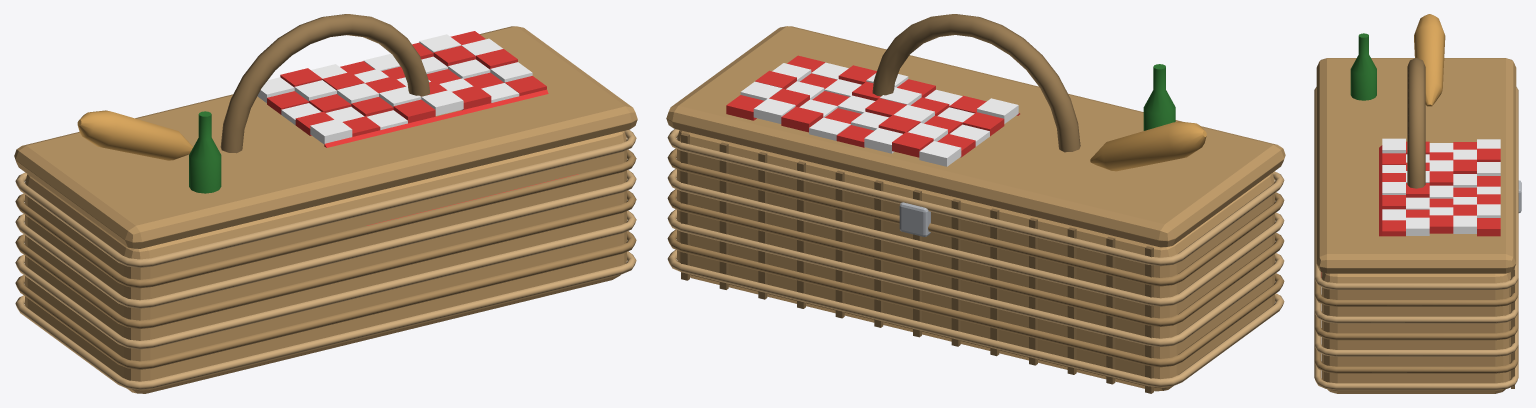
The model's file is picnic_basket.fbx.
The picture shows the model from 3 angles, left to right: view 1: azimuth 30°, elevation 25°; view 2: azimuth 150°, elevation 25°; view 3: azimuth 270°, elevation 25°; orthographic projection. The views are drawn at different scales.
Visible parts, largest first — view 1: Picnic Basket; view 2: Picnic Basket; view 3: Picnic Basket.
Boxes of the visible parts, <box> form: Picnic Basket: <box>14,14,637,393</box>; Picnic Basket: <box>666,14,1285,393</box>; Picnic Basket: <box>1314,14,1521,393</box>.
Bounding box in the file's own units: 1.86 × 0.975 × 0.7883.
